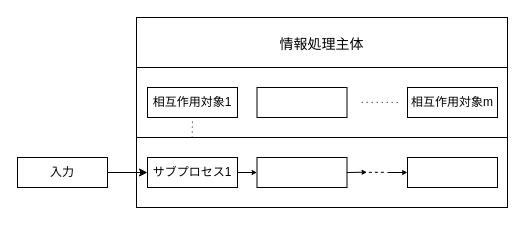
Image size: 525x225. Some labels were removed from this diagram. Here are the shapes that lost their labels. From the top down, the centre of each, then its label:
At (301,102): "相互作用対象2".
At (301,172): "サブプロセス2".
At (452,172): "サブプロセスn".
